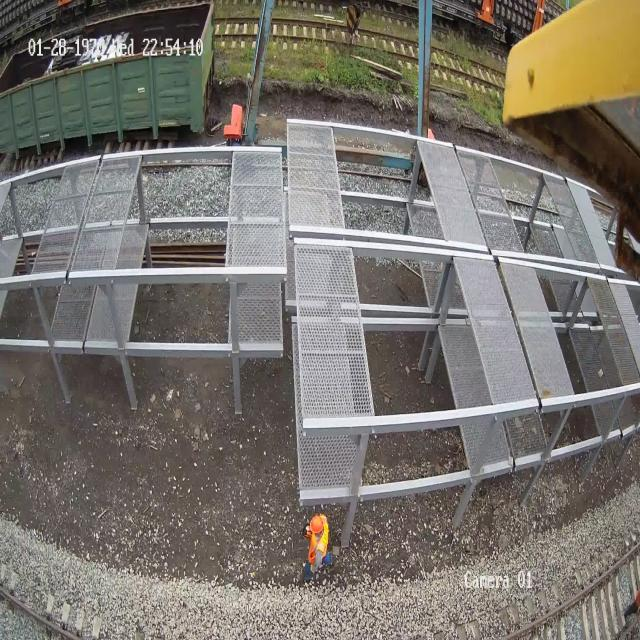Helmet: (310, 514, 323, 534)
Person: (303, 509, 330, 582)
